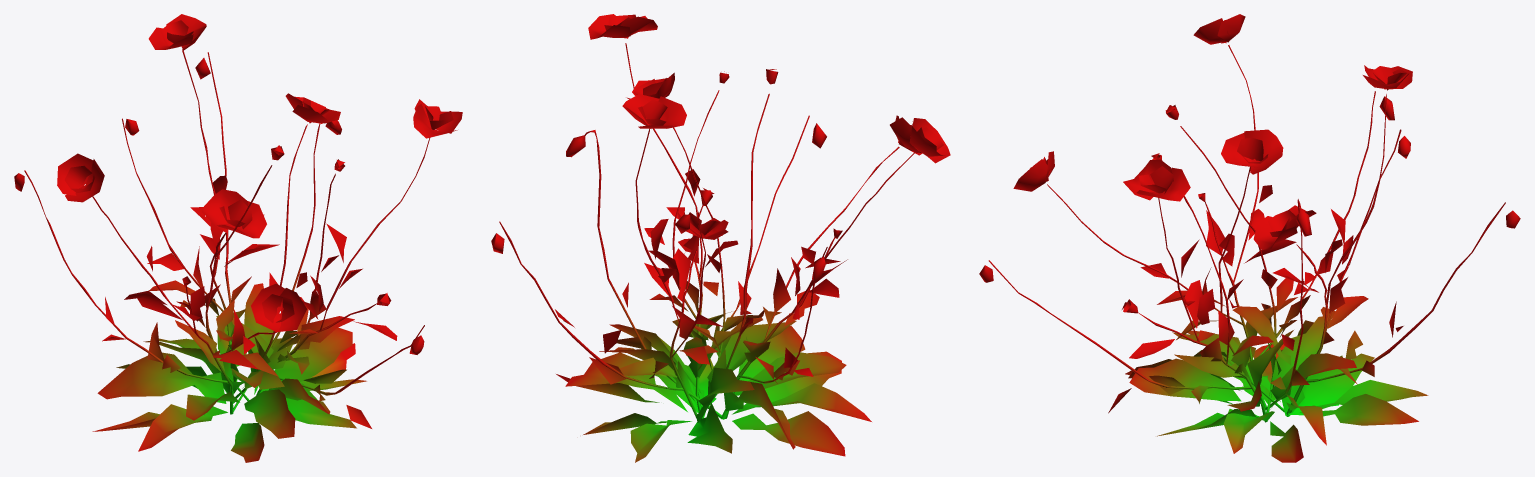
File: SM_Urb_Gar_Flower_Poppy_Set_01_C.FBX
The picture shows the model from 3 angles, left to right: view 1: azimuth 30°, elevation 25°; view 2: azimuth 150°, elevation 25°; view 3: azimuth 270°, elevation 25°; orthographic projection. The views are drawn at different scales.
Visible parts, largest first — view 1: SM_Urb_Gar_Flower_Poppy_Set_01_C_LOD0; view 2: SM_Urb_Gar_Flower_Poppy_Set_01_C_LOD0; view 3: SM_Urb_Gar_Flower_Poppy_Set_01_C_LOD0.
Boxes of the visible parts, box(x1,y1,x2,y2) form: SM_Urb_Gar_Flower_Poppy_Set_01_C_LOD0: box(14, 14, 462, 462); SM_Urb_Gar_Flower_Poppy_Set_01_C_LOD0: box(491, 14, 950, 462); SM_Urb_Gar_Flower_Poppy_Set_01_C_LOD0: box(979, 14, 1520, 462).
Size of the model in its own units: 77.59 by 97.84 by 69.35.
